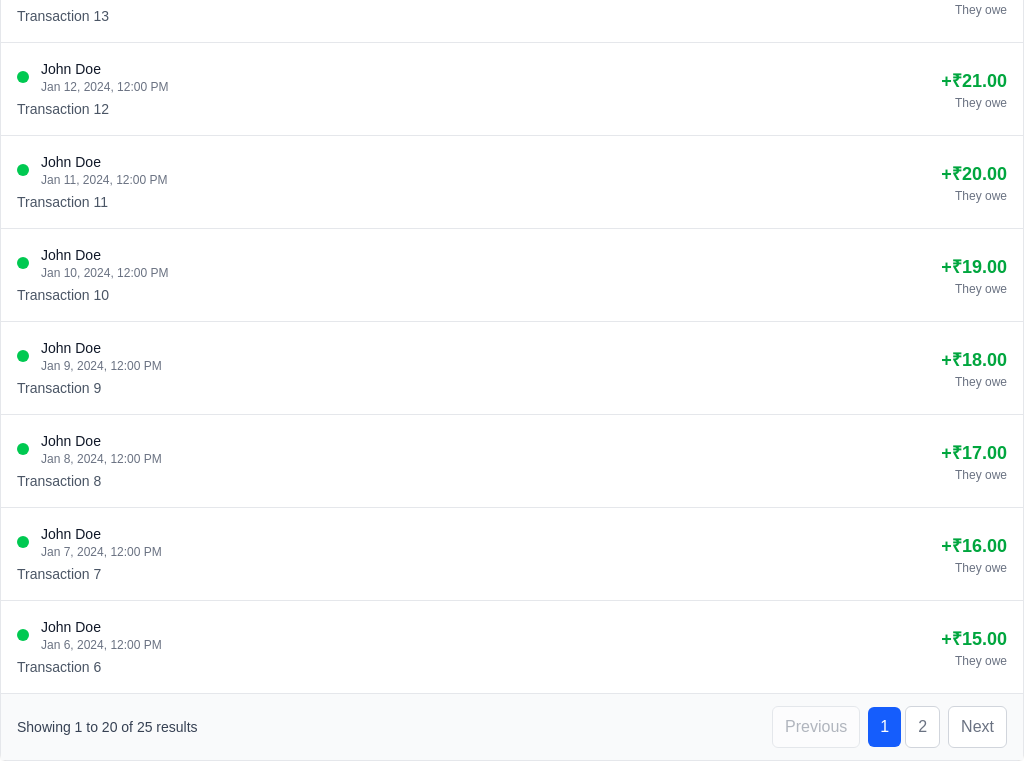
TransactionList › Pagination › disables pagination buttons appropriately
(page scrolled)
Expected: the button "Previous" is disabled, x1=772 y1=706 x2=860 y2=748
// Go to last page
Click the button "2". click: (923, 727)
box: x1=905 y1=706 x2=940 y2=748
(page scrolled)
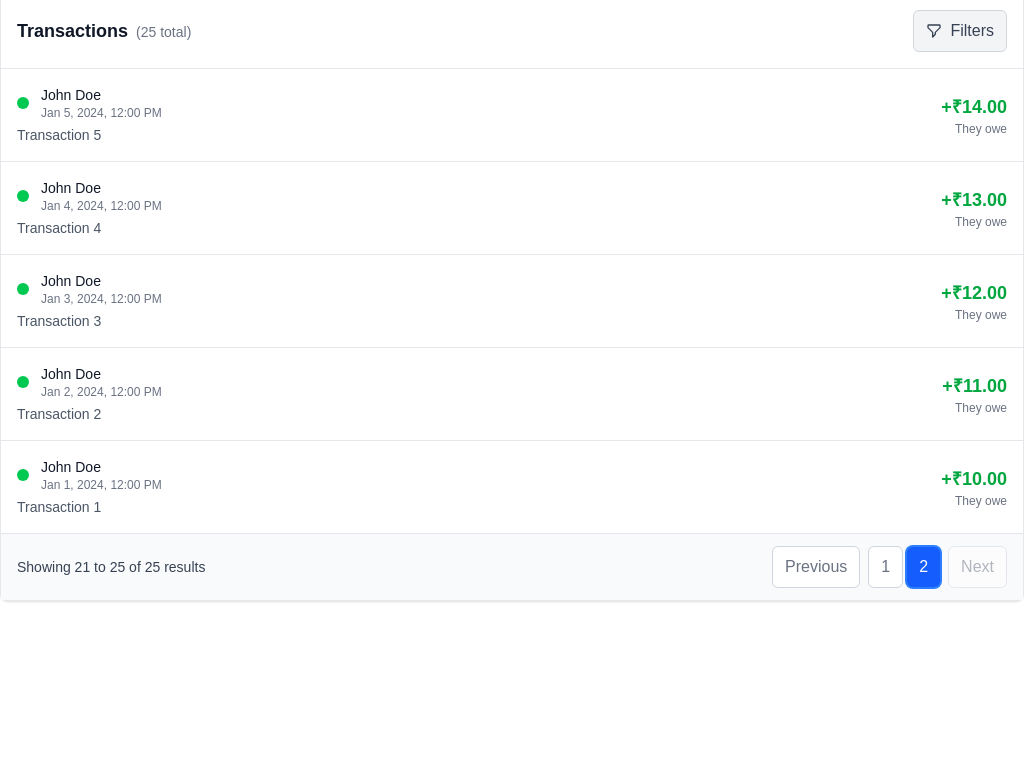
Result: the button "Next" is disabled at x1=948 y1=546 x2=1007 y2=588
